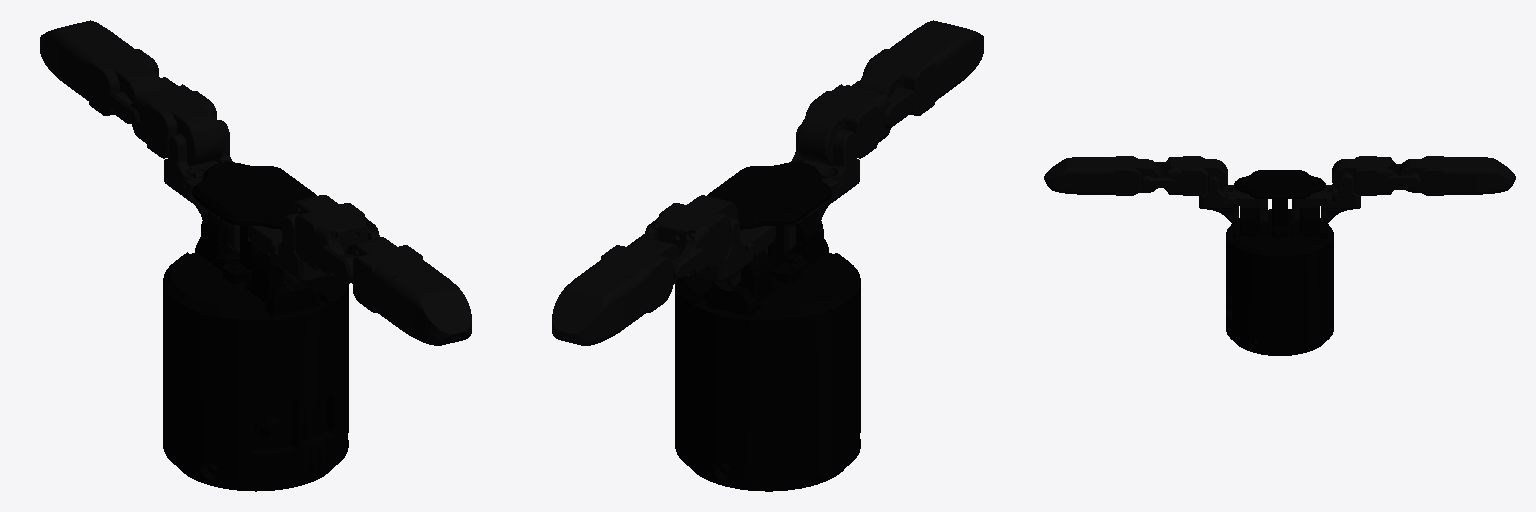
URDF robot description (dg2f):
<?xml version="1.0" ?>

<robot name="dg2f">
  <link name="l_base">
    <!-- <inertial>
      <mass value="0.451" />
    </inertial> -->
    <visual>
      <origin xyz="0 0 0" rpy="0 0 3.14" />
      <geometry>
        <mesh filename="package://dg2f_description/meshes/dg2f/visual/l_base.dae" />
      </geometry>
      <material name="dg2f_dark">
        <color rgba="0.03 0.03 0.03 1.0"/>
      </material>
    </visual>
    <collision>
      <origin xyz="0 0 0" rpy="0 0 3.14" />
      <geometry>
        <mesh filename="package://dg2f_description/meshes/dg2f/collision/l_base.stl" />
      </geometry>
    </collision>
  </link>

  <link name="l_1_1">
    <!-- <inertial>
      <mass value="0.046" />
    </inertial> -->
    <visual>
      <origin xyz="0 0 0" rpy="0 0 0" />
      <geometry>
        <mesh filename="package://dg2f_description/meshes/dg2f/visual/l_1.dae" />
      </geometry>
      <material name="dg2f_gray">
        <color rgba="0.07 0.07 0.07 1.0"/>
      </material>
    </visual>
    <collision>
      <origin xyz="0 0 0" rpy="0 0 0" />
      <geometry>
        <mesh filename="package://dg2f_description/meshes/dg2f/collision/l_1.stl" />
      </geometry>
    </collision>
  </link>
  <joint name="j_1_1" type="revolute">
    <origin xyz="0 0.00785 0.038" rpy="0.0 0.0 0.0" />
    <parent link="l_base" />
    <child link="l_1_1" />
    <axis xyz="0 1 0" />
    <limit lower="-1.5708" upper="1.5708" effort="7.644" velocity="3.141592653589793" />
  </joint>
  <link name="l_1_2">
    <!-- <inertial>
      <mass value="0.027" />
    </inertial> -->
    <visual>
      <origin xyz="0 0 0" rpy="0 0 0" />
      <geometry>
        <mesh filename="package://dg2f_description/meshes/dg2f/visual/l_2.dae" />
      </geometry>
      <material name="dg2f_gray">
        <color rgba="0.07 0.07 0.07 1.0"/>
      </material>
    </visual>
    <collision>
      <origin xyz="0 0 0" rpy="0 0 0" />
      <geometry>
        <mesh filename="package://dg2f_description/meshes/dg2f/collision/l_2.stl" />
      </geometry>
    </collision>
  </link>
  <joint name="j_1_2" type="revolute">
    <origin xyz="0 0.0354 0.02905" rpy="-1.5708 0.0 0.0" />
    <parent link="l_1_1" />
    <child link="l_1_2" />
    <axis xyz="1 0 0" />
    <limit lower="0" upper="3.141593" effort="7.644" velocity="3.141592653589793" />
  </joint>
  <link name="l_1_3">
    <!-- <inertial>
      <mass value="0.027" />
    </inertial> -->
    <visual>
      <origin xyz="0 0 0" rpy="0 0 0" />
      <geometry>
        <mesh filename="package://dg2f_description/meshes/dg2f/visual/l_3.dae" />
      </geometry>
      <material name="dg2f_gray">
        <color rgba="0.07 0.07 0.07 1.0"/>
      </material>
    </visual>
    <collision>
      <origin xyz="0 0 0" rpy="0 0 0" />
      <geometry>
        <mesh filename="package://dg2f_description/meshes/dg2f/collision/l_3.stl" />
      </geometry>
    </collision>
  </link>
  <joint name="j_1_3" type="revolute">
    <origin xyz="0 0 0.043645" rpy="0.0 0.0 0.0" />
    <parent link="l_1_2" />
    <child link="l_1_3" />
    <axis xyz="1 0 0" />
    <limit lower="-1.5708" upper="1.5708" effort="7.644" velocity="3.141592653589793" />
  </joint>
  <link name="l_1_4">
    <!-- <inertial>
      <mass value="0.041" />
    </inertial> -->
    <visual>
      <origin xyz="0 0 0" rpy="0 0 0" />
      <geometry>
        <mesh filename="package://dg2f_description/meshes/dg2f/visual/l_tip.dae" />
      </geometry>
      <material name="dg2f_gray">
        <color rgba="0.07 0.07 0.07 1.0"/>
      </material>
    </visual>
    <collision>
      <origin xyz="0 0 0" rpy="0 0 0" />
      <geometry>
        <mesh filename="package://dg2f_description/meshes/dg2f/collision/l_tip.stl" />
      </geometry>
    </collision>
  </link>
  <joint name="j_1_4" type="fixed">
    <origin xyz="0 0 0.031314" rpy="0.0 0.0 0.0" />
    <parent link="l_1_3" />
    <child link="l_1_4" />
    <axis xyz="0 0 1" />
  </joint>

  <link name="l_2_1">
    <!-- <inertial>
      <mass value="0.046" />
    </inertial> -->
    <visual>
      <origin xyz="0 0 0" rpy="0 0 0" />
      <geometry>
        <mesh filename="package://dg2f_description/meshes/dg2f/visual/l_1.dae" />
      </geometry>
      <material name="dg2f_gray">
        <color rgba="0.07 0.07 0.07 1.0"/>
      </material>
    </visual>
    <collision>
      <origin xyz="0 0 0" rpy="0 0 0" />
      <geometry>
        <mesh filename="package://dg2f_description/meshes/dg2f/collision/l_1.stl" />
      </geometry>
    </collision>
  </link>
  <joint name="j_2_1" type="revolute">
    <origin xyz="0 -0.00785 0.038" rpy="0.0 0.0 3.141593" />
    <parent link="l_base" />
    <child link="l_2_1" />
    <axis xyz="0 1 0" />
    <limit lower="-1.5708" upper="1.5708" effort="7.644" velocity="3.141592653589793" />
  </joint>
  <link name="l_2_2">
    <!-- <inertial>
      <mass value="0.027" />
    </inertial> -->
    <visual>
      <origin xyz="0 0 0" rpy="0 0 0" />
      <geometry>
        <mesh filename="package://dg2f_description/meshes/dg2f/visual/l_2.dae" />
      </geometry>
      <material name="dg2f_gray">
        <color rgba="0.07 0.07 0.07 1.0"/>
      </material>
    </visual>
    <collision>
      <origin xyz="0 0 0" rpy="0 0 0" />
      <geometry>
        <mesh filename="package://dg2f_description/meshes/dg2f/collision/l_2.stl" />
      </geometry>
    </collision>
  </link>
  <joint name="j_2_2" type="revolute">
    <origin xyz="0 0.0354 0.02905" rpy="-1.5708 0.0 0.0" />
    <parent link="l_2_1" />
    <child link="l_2_2" />
    <axis xyz="1 0 0" />
    <limit lower="0" upper="3.141593" effort="7.644" velocity="3.141592653589793" />
  </joint>
  <link name="l_2_3">
    <!-- <inertial>
      <mass value="0.027" />
    </inertial> -->
    <visual>
      <origin xyz="0 0 0" rpy="0 0 0" />
      <geometry>
        <mesh filename="package://dg2f_description/meshes/dg2f/visual/l_3.dae" />
      </geometry>
      <material name="dg2f_gray">
        <color rgba="0.07 0.07 0.07 1.0"/>
      </material>
    </visual>
    <collision>
      <origin xyz="0 0 0" rpy="0 0 0" />
      <geometry>
        <mesh filename="package://dg2f_description/meshes/dg2f/collision/l_3.stl" />
      </geometry>
    </collision>
  </link>
  <!--joint 1-->
  <joint name="j_2_3" type="revolute">
    <origin xyz="0 0 0.043645" rpy="0.0 0.0 0.0" />
    <parent link="l_2_2" />
    <child link="l_2_3" />
    <axis xyz="1 0 0" />
    <limit lower="-1.5708" upper="1.5708" effort="7.644" velocity="3.141592653589793" />
  </joint>
  <link name="l_2_4">
    <!-- <inertial>
      <mass value="0.041" />
    </inertial> -->
    <visual>
      <origin xyz="0 0 0" rpy="0 0 0" />
      <geometry>
        <mesh filename="package://dg2f_description/meshes/dg2f/visual/l_tip.dae" />
      </geometry>
      <material name="dg2f_gray">
        <color rgba="0.07 0.07 0.07 1.0"/>
      </material>
    </visual>
    <collision>
      <origin xyz="0 0 0" rpy="0 0 0" />
      <geometry>
        <mesh filename="package://dg2f_description/meshes/dg2f/collision/l_tip.stl" />
      </geometry>
    </collision>
  </link>
  <joint name="j_2_4" type="fixed">
    <origin xyz="0 0 0.031314" rpy="0.0 0.0 0.0" />
    <parent link="l_2_3" />
    <child link="l_2_4" />
    <axis xyz="0 0 1" />
  </joint>
</robot>

--- Render facts (derived) ---
Views: 3 orthographic renders of the robot side by side, from view 1: azimuth 30°, elevation 25°; view 2: azimuth 150°, elevation 25°; view 3: azimuth 270°, elevation 25°.
Model dg2f with 9 links and 8 joints (6 revolute, 2 fixed), rooted at l_base, posed every joint at zero.
Links seen in each view (by area): view 1: l_base, l_1_2, l_2_4, l_2_2, l_1_3, l_2_3, l_1_1, l_1_4, l_2_1; view 2: l_base, l_2_2, l_1_4, l_1_2, l_2_3, l_1_3, l_2_1, l_2_4, l_1_1; view 3: l_base, l_1_2, l_2_2, l_2_3, l_1_3, l_1_4, l_2_4, l_1_1, l_2_1.
Boxes of the visible links, x1,y1,x2,y2 form: l_base: (163,162,348,491); l_1_2: (109,77,223,166); l_2_4: (387,268,471,345); l_2_2: (288,195,379,283); l_1_3: (74,39,163,123); l_2_3: (346,237,433,319); l_1_1: (164,120,239,253); l_1_4: (40,20,120,90); l_2_1: (248,213,333,290); l_base: (675,162,860,491); l_2_2: (797,81,916,165); l_1_4: (552,268,636,345); l_1_2: (627,195,738,279); l_2_3: (858,39,949,115); l_1_3: (590,238,679,319); l_2_1: (784,125,859,253); l_2_4: (903,20,983,90); l_1_1: (687,204,775,290); l_base: (1226,170,1333,355); l_1_2: (1332,156,1420,195); l_2_2: (1141,156,1227,195); l_2_3: (1098,156,1160,195); l_1_3: (1399,156,1461,195); l_1_4: (1462,157,1515,194); l_2_4: (1044,157,1097,194); l_1_1: (1292,173,1360,223); l_2_1: (1199,176,1267,223).
Bounding box of the posed robot: 0.07 × 0.3063 × 0.1244 m (x, y, z).
Meshes: 5 distinct files referenced, 9 mesh visuals loaded (5 Collada DAE).
